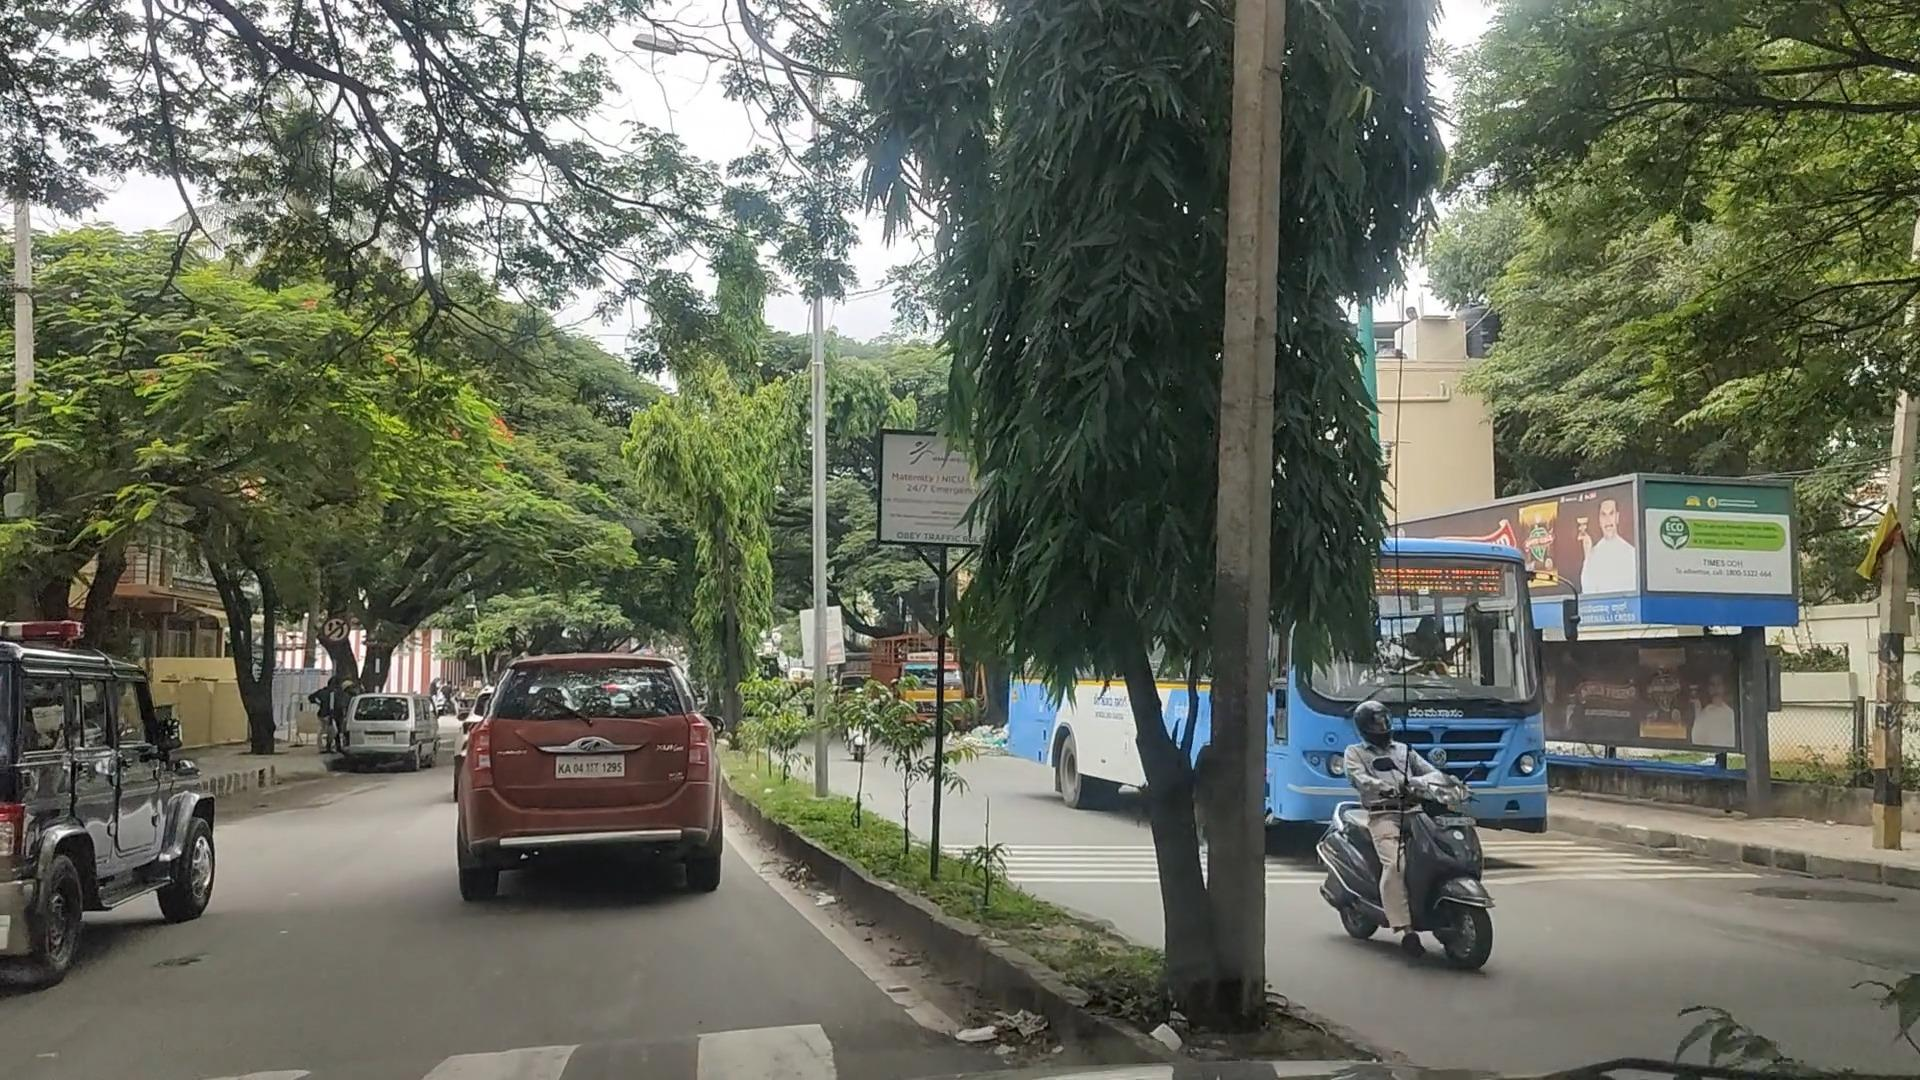LMV: (444, 655, 709, 893)
SpeedBump: (273, 1038, 907, 1080)
